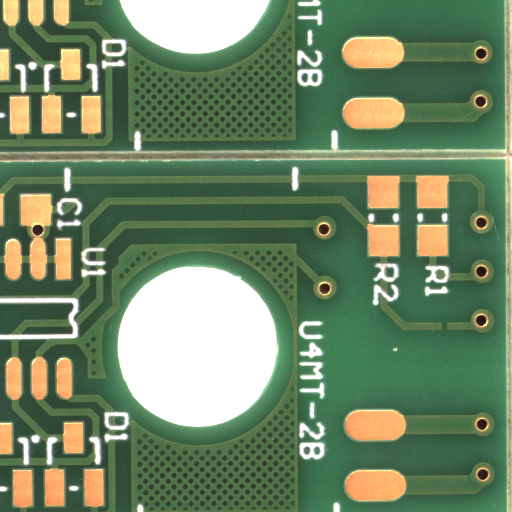Open_circuit: (443, 326, 451, 337)
